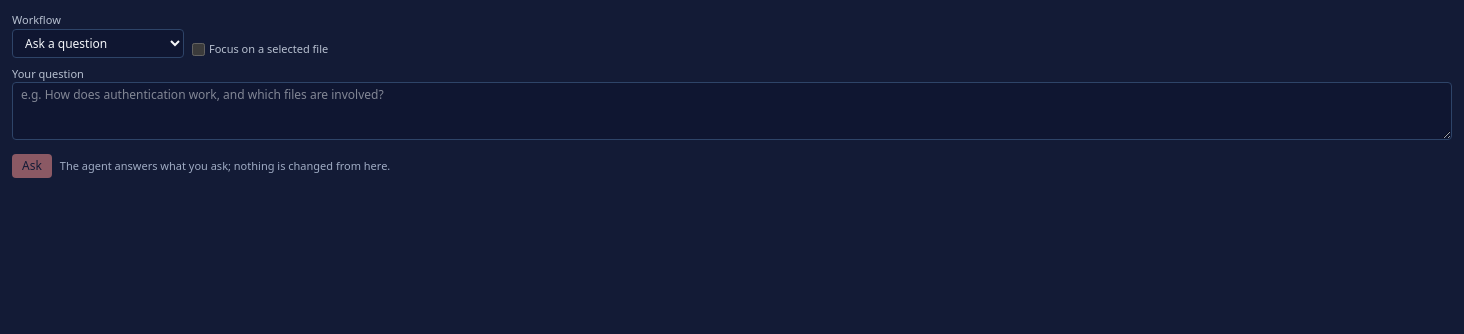
Scenario: ProjectAsk › never applies anything: pending proposals are sent to Coding for review
This screenshot has width=1464, height=334.
Type "Fix the session expiry bug" into the text box labelled "Your question" at (732, 111), box left=12, top=82, right=1452, bottom=140
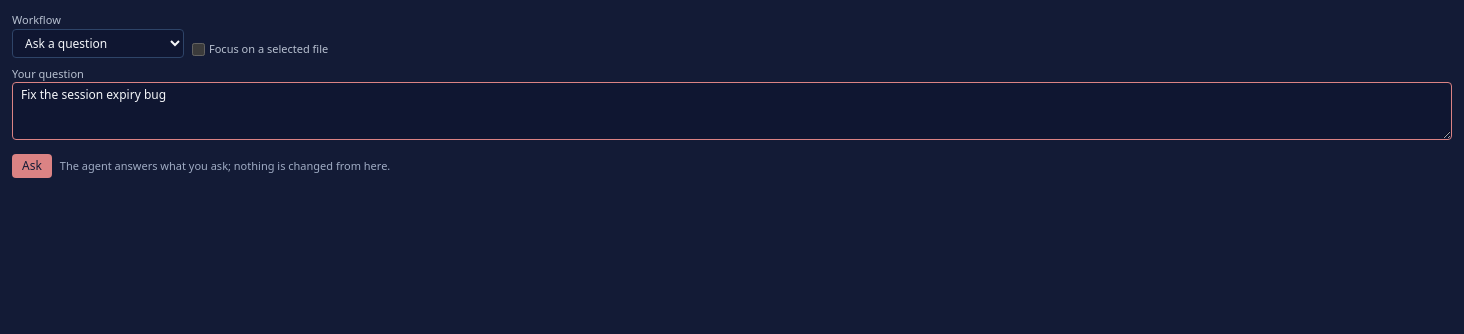
Click the button "Ask" at (32, 166), box left=12, top=154, right=52, bottom=178
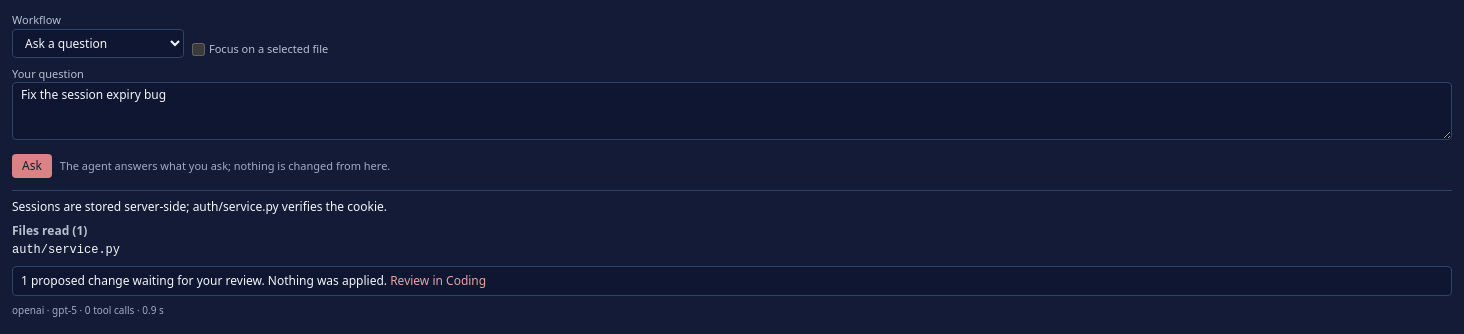
Expected: the text "1 proposed change waiting for your review" is shown, left=12, top=266, right=1452, bottom=296
